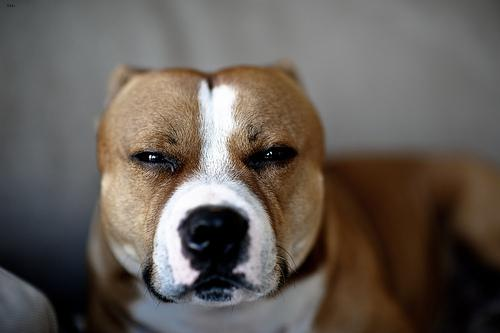dog-staffordshire_bull_terrier: (95, 61, 325, 304)
